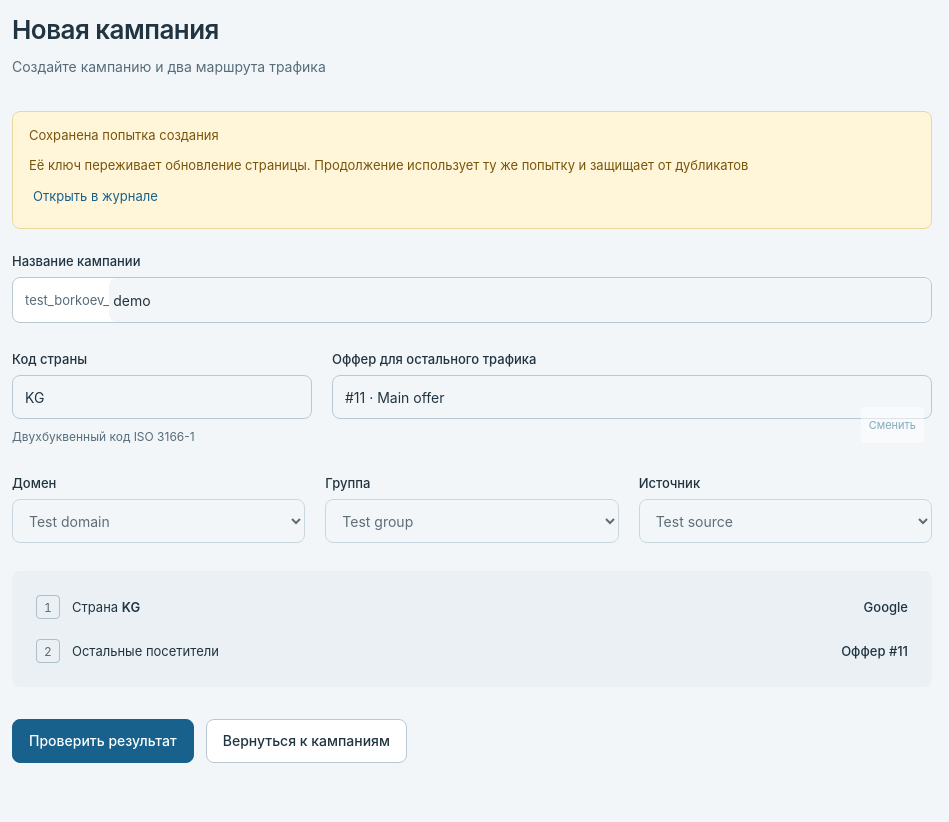
Test: creation recovery › allows reset only when reconciliation is confirmed failed (uncertain)
Click the button "Проверить результат" at (103, 742), box [12,720,194,764]
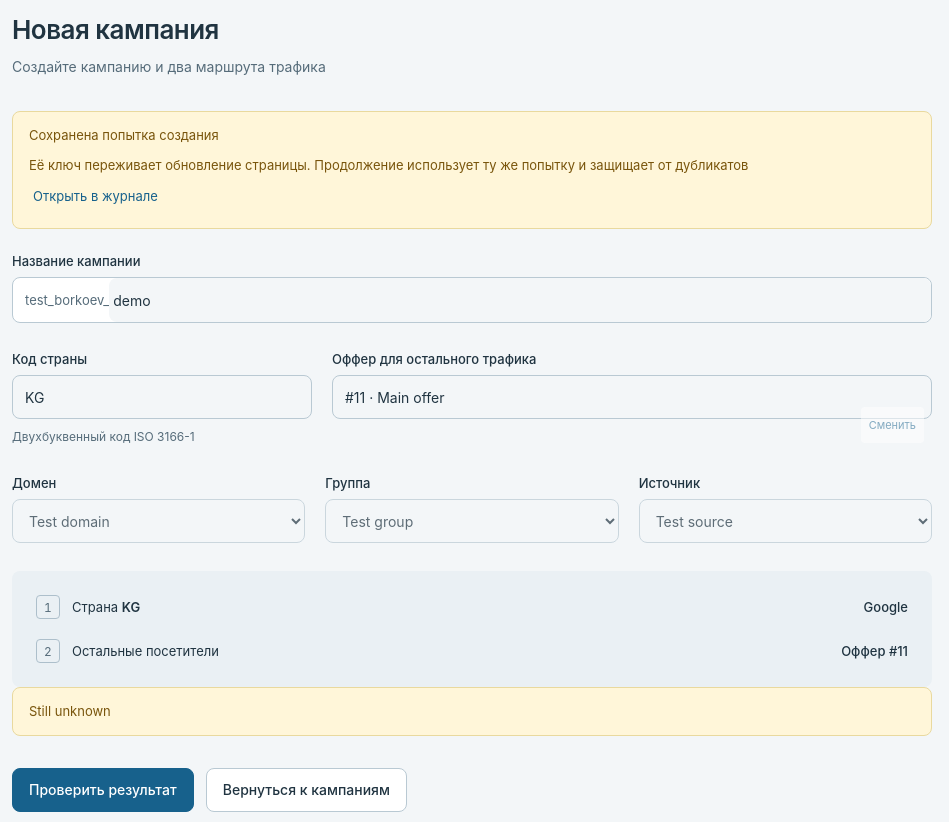
Check: the text "Still unknown" is shown, box [12,688,932,736]
